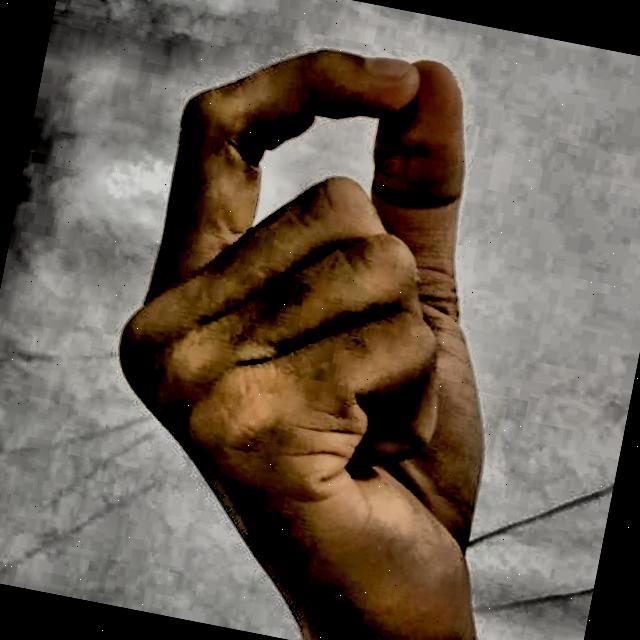Gha: (33, 0, 616, 640)
